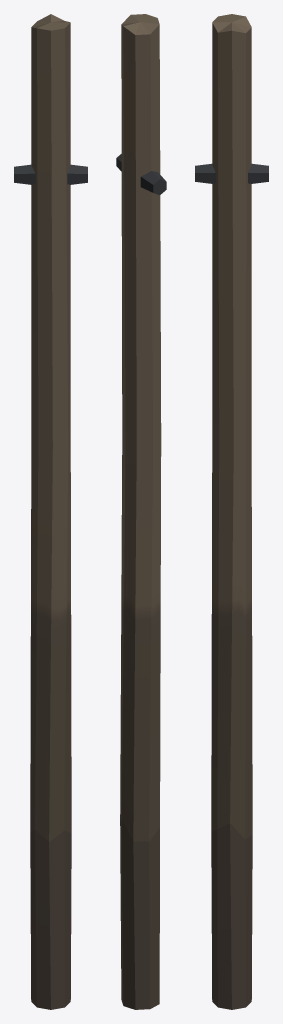
File: SM_Prop_Powerpole_Single_01.obj
The picture shows the model from 3 angles, left to right: view 1: azimuth 90°, elevation 25°; view 2: azimuth 210°, elevation 25°; view 3: azimuth 270°, elevation 25°; orthographic projection.
Visible parts, largest first — view 1: SM_Prop_Powerpole_Single_01_0; view 2: SM_Prop_Powerpole_Single_01_0; view 3: SM_Prop_Powerpole_Single_01_0.
Part boxes in pixels (bbox=[...]): SM_Prop_Powerpole_Single_01_0: bbox=[14, 14, 87, 1009]; SM_Prop_Powerpole_Single_01_0: bbox=[116, 14, 166, 1009]; SM_Prop_Powerpole_Single_01_0: bbox=[195, 14, 268, 1009].
Bounding box in the file's own units: 0.2439 × 6.3 × 0.4304.
Materials: 1 (1 with a texture image).
